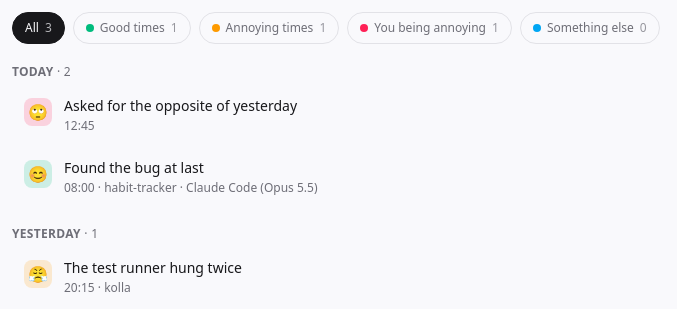
Test: MomentList › filters by kind
This screenshot has width=677, height=309.
Step 1. Click the button "Good times 1" → (132, 28), box [73, 12, 191, 44]
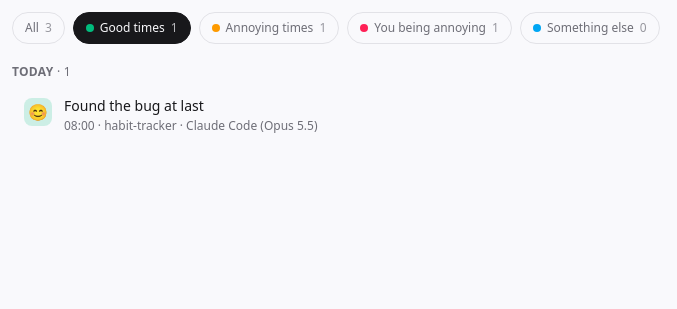
Expected: the list item shows "Found the bug at last", [64, 96, 204, 115]
Expected: the number of list items is 1, [24, 96, 318, 134]
